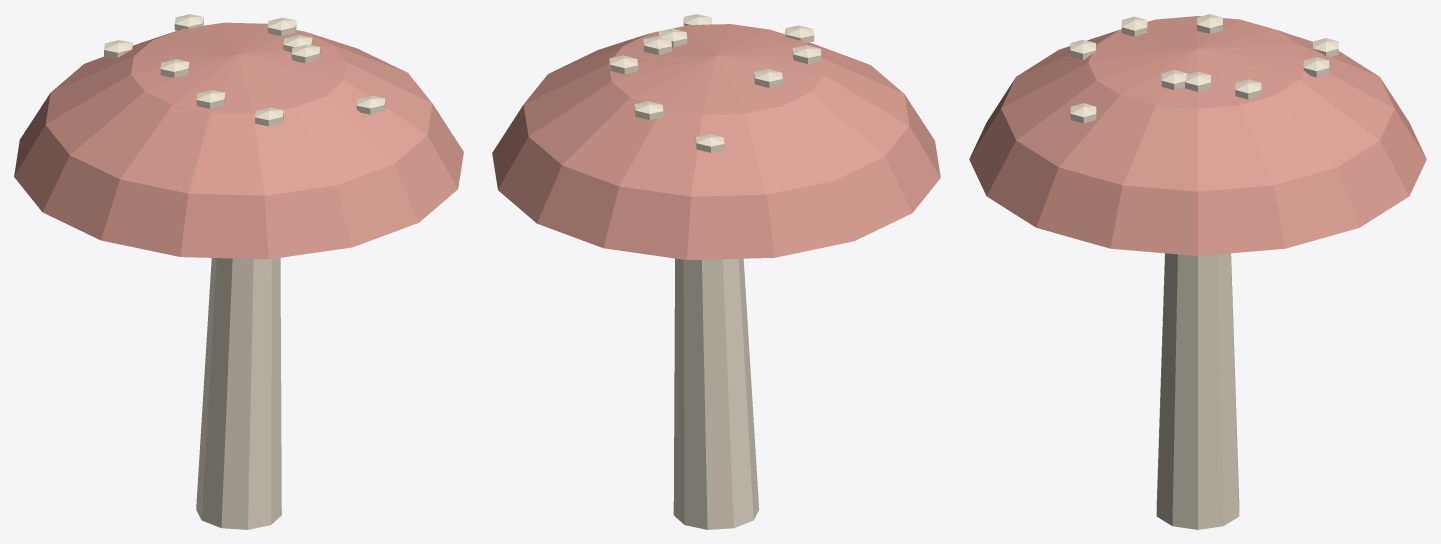
File: giant_mushroom.glb
3 views of the same model, side by side, from view 1: azimuth 30°, elevation 25°; view 2: azimuth 150°, elevation 25°; view 3: azimuth 270°, elevation 25° (orthographic).
Parts seen in each view (by area): view 1: giant_mushroom; view 2: giant_mushroom; view 3: giant_mushroom.
Boxes of the visible parts, box(x1,y1,x2,y2) form: giant_mushroom: box(14, 14, 463, 529); giant_mushroom: box(492, 14, 940, 529); giant_mushroom: box(969, 14, 1426, 529).
Size of the model in its own units: 3.3 by 3.7 by 3.3.
